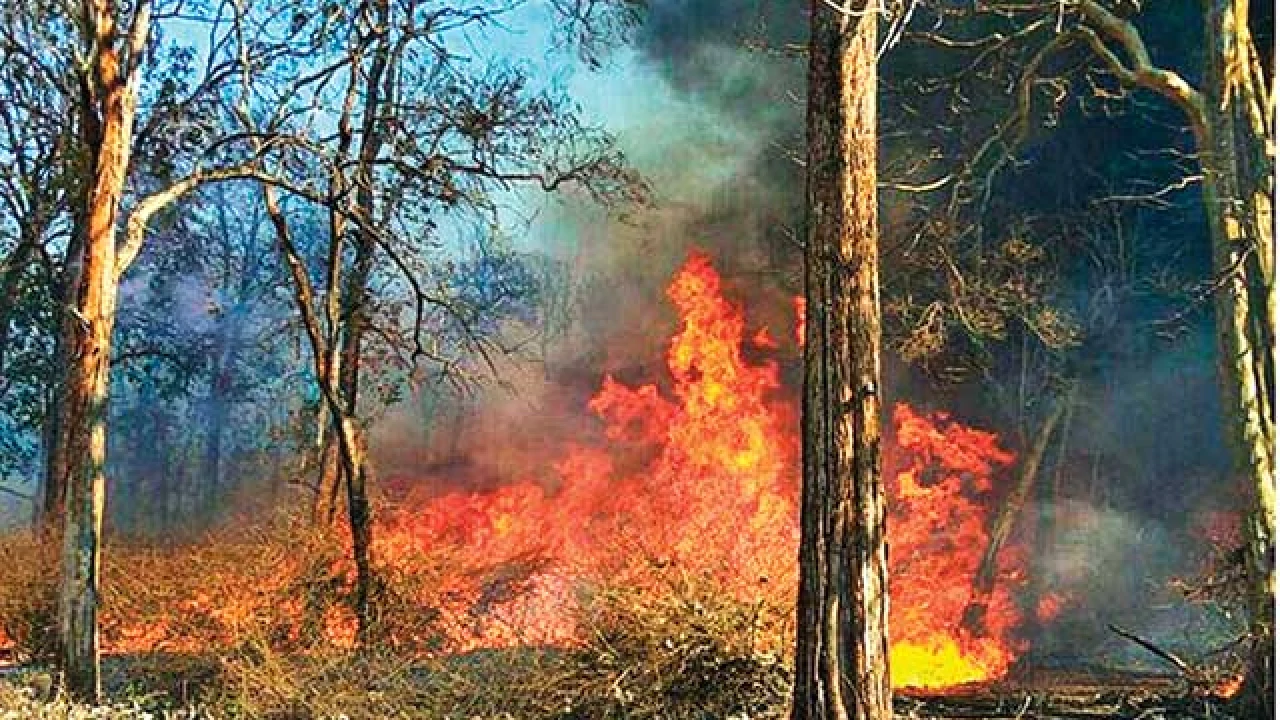fire: (405, 486, 661, 641), (676, 267, 788, 620), (886, 421, 1015, 691)
smoke: (1021, 230, 1234, 651), (650, 6, 803, 256)
